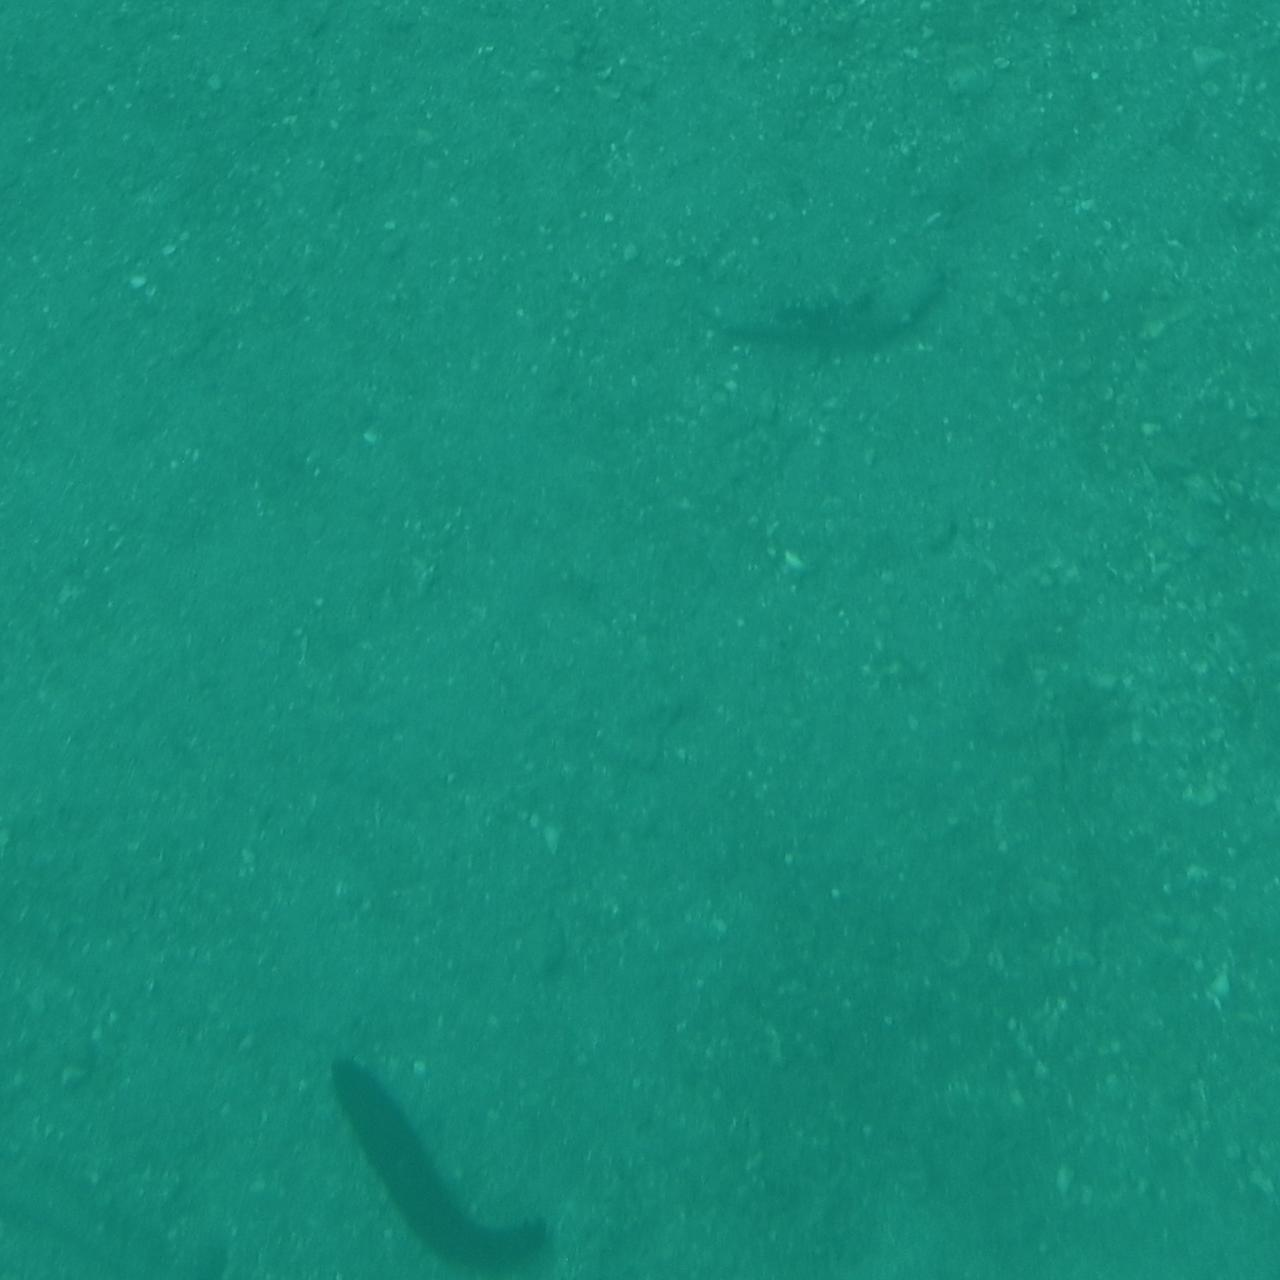Holothuria tubulosa: (321, 1047, 557, 1279), (707, 251, 975, 341)
